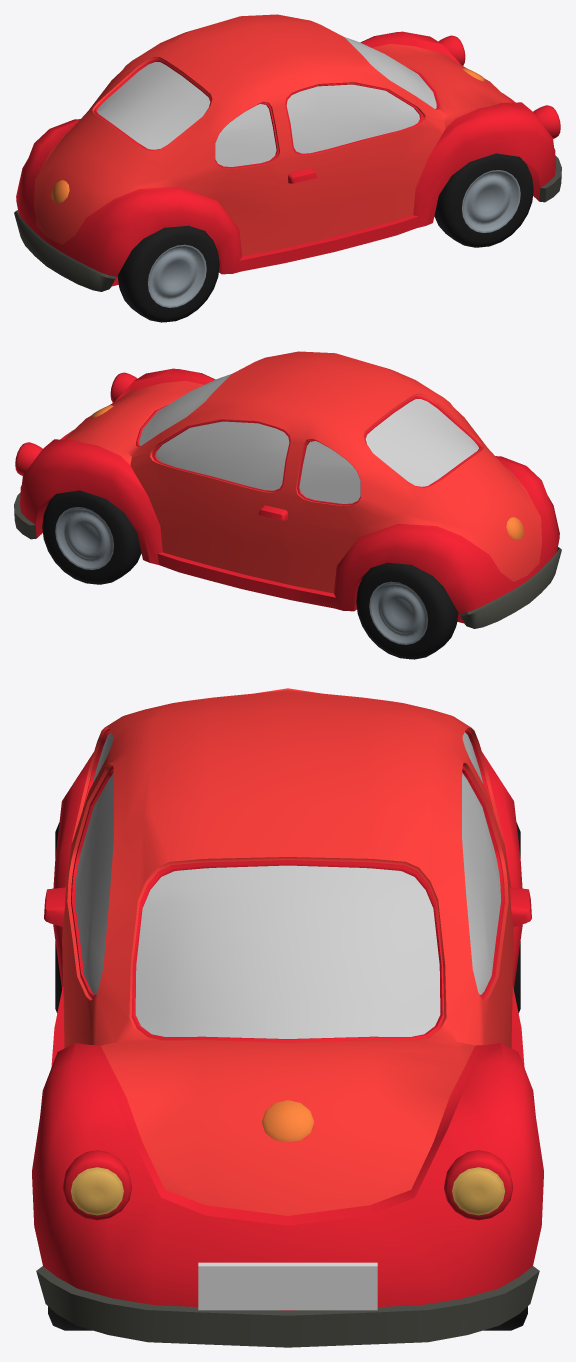
File: car5.fbx
3 renders of one model, top to bottom at view 1: azimuth 30°, elevation 25°; view 2: azimuth 150°, elevation 25°; view 3: azimuth 270°, elevation 25°, orthographic. The views are drawn at different scales.
Parts seen in each view (by area): view 1: Transport5; view 2: Transport5; view 3: Transport5.
Part boxes in pixels (<box>): Transport5: <box>14,14,561,322</box>; Transport5: <box>14,351,561,659</box>; Transport5: <box>32,688,543,1347</box>.
Bounding box in the file's own units: 248 × 101 × 114.
